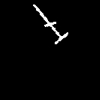double_crochet: (33, 5, 67, 43)
